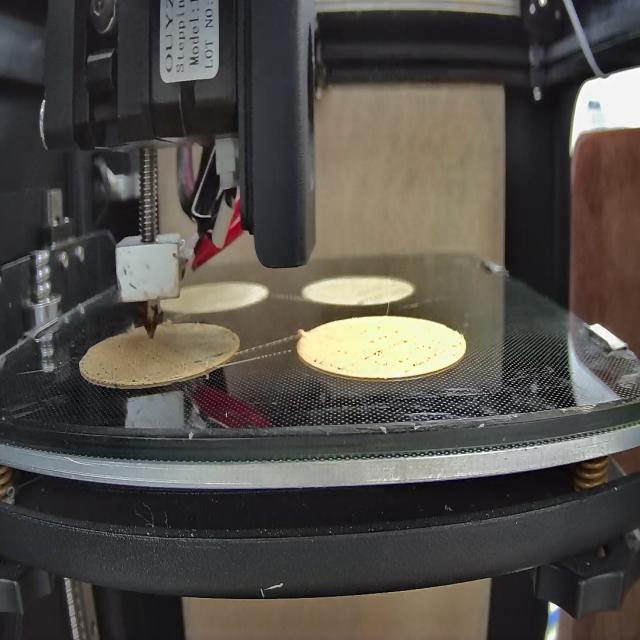under_extrusion: (365, 330, 445, 378), (83, 361, 144, 396), (188, 342, 230, 373), (311, 353, 351, 378)
